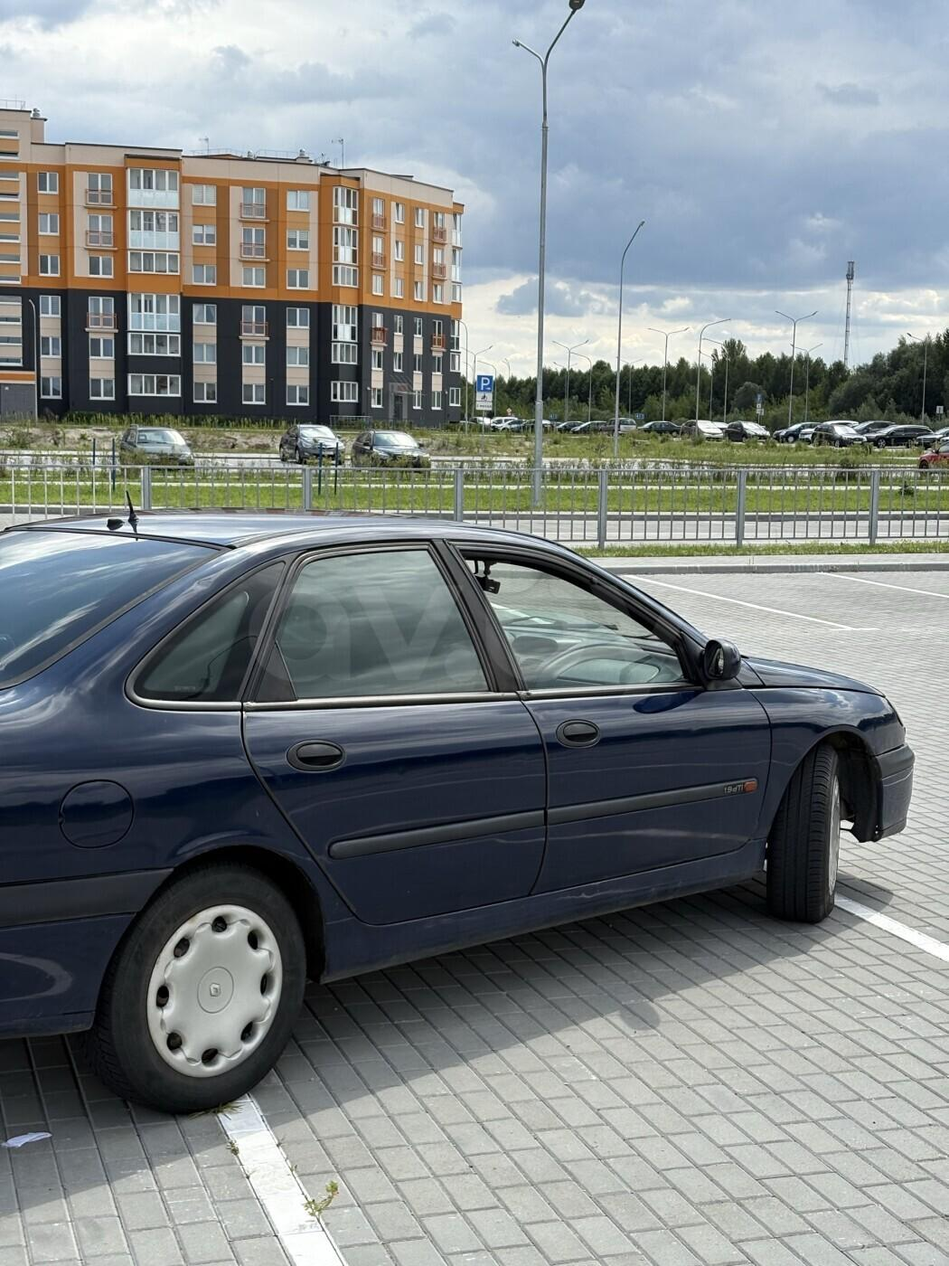Laguna_1998-2001: (0, 506, 915, 1107)
